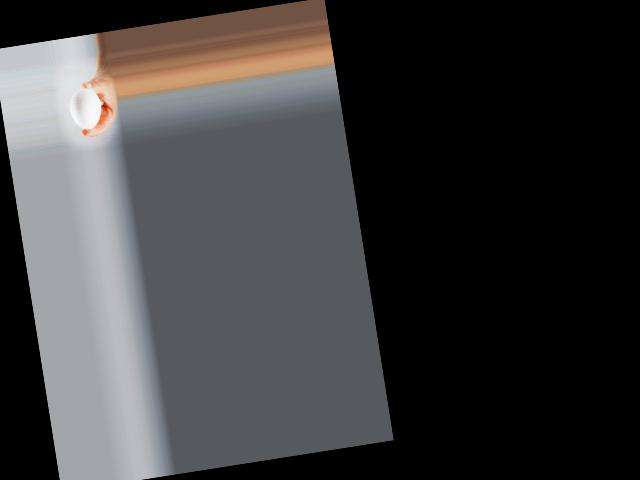egg: (67, 86, 103, 132)
